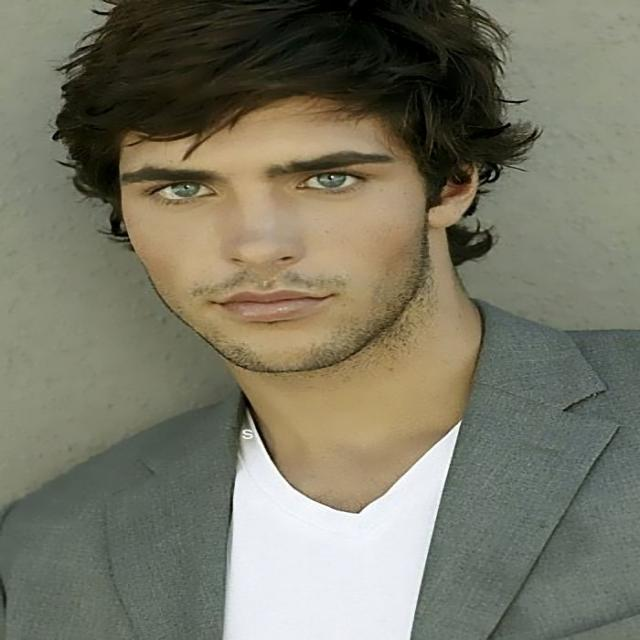earlobe: (426, 203, 458, 229)
eye: (298, 172, 363, 191), (154, 182, 218, 200)
nose: (219, 255, 310, 288)
wholeear: (426, 149, 478, 229)
